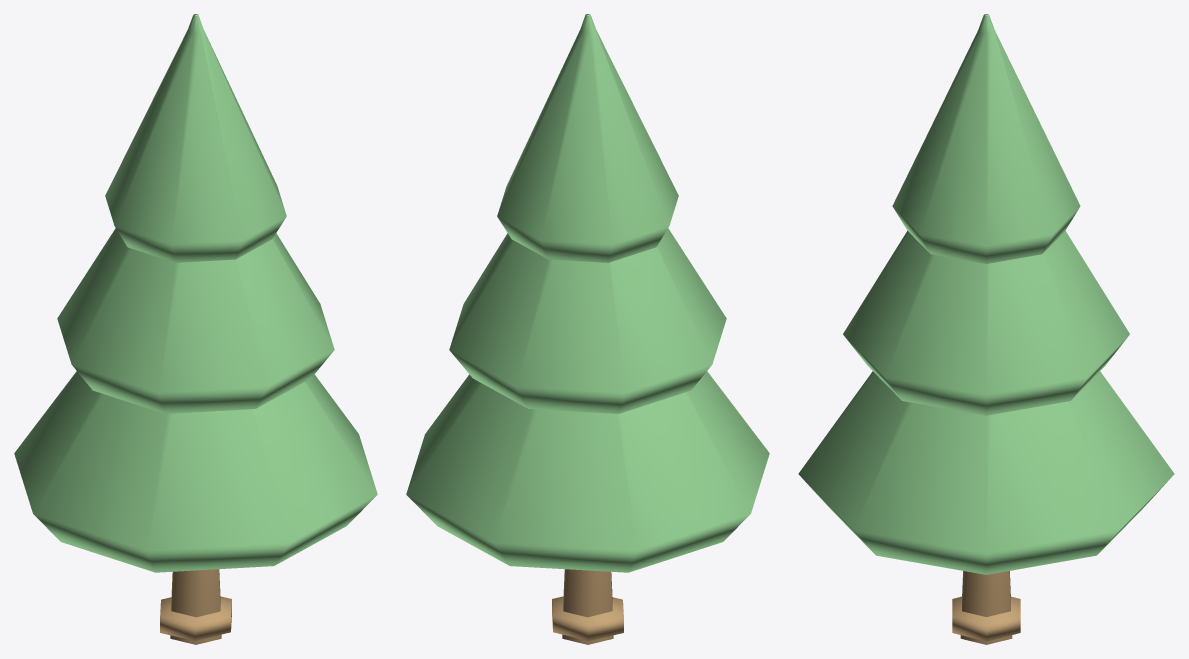
The model's file is tree_pine_autumn_low.glb.
3 renders of one model, left to right at view 1: azimuth 30°, elevation 25°; view 2: azimuth 150°, elevation 25°; view 3: azimuth 270°, elevation 25°, orthographic.
Bounding box in the file's own units: 2.28 × 4.12 × 2.28.
